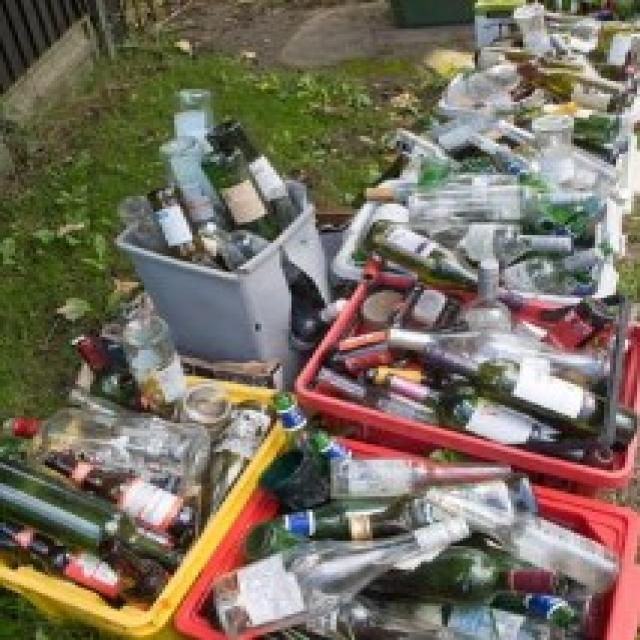electronic: (215, 391, 633, 640), (0, 310, 284, 640), (314, 280, 640, 480), (339, 120, 640, 304), (115, 78, 307, 274), (414, 8, 640, 126)
